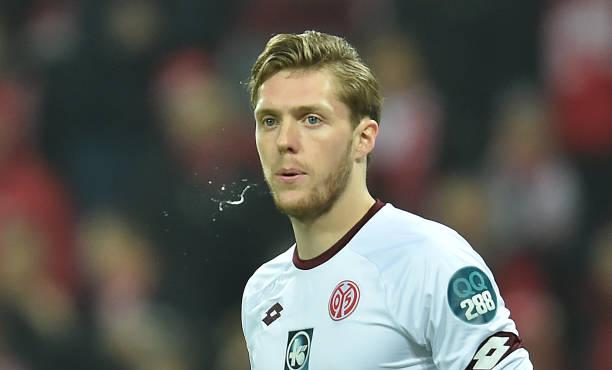Spitting: (192, 29, 420, 228)
